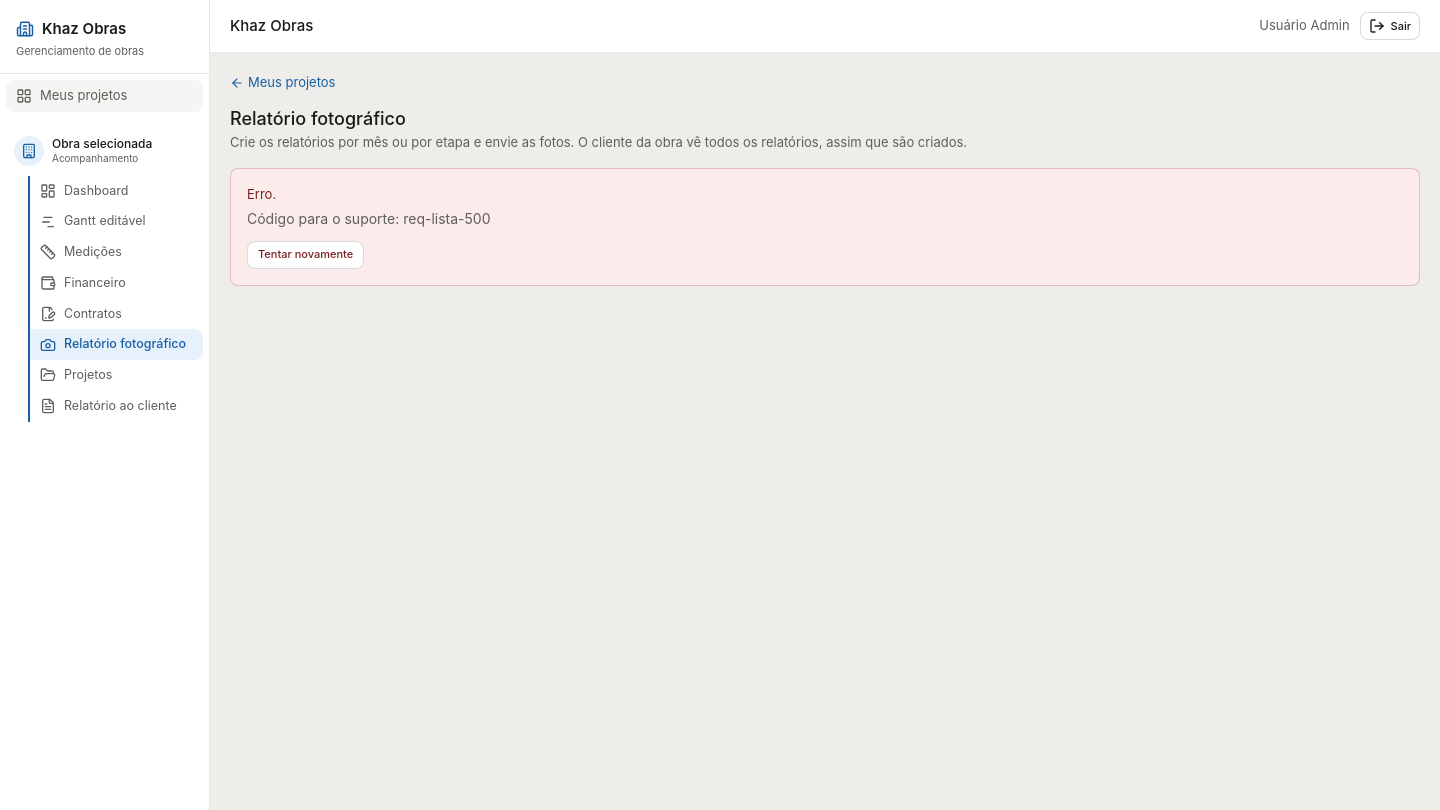
Relatório fotográfico (admin) - lista › erro 500 mostra o código de suporte e "Tentar novamente" recarrega
Expected: the message shows "Código para o suporte: req-lista-500", top-left (230, 168), bottom-right (1420, 286)
Expected: the button "+ Novo relatório" is not shown
Click the button "Tentar novamente" at (306, 254), box top-left (247, 240), bottom-right (364, 268)
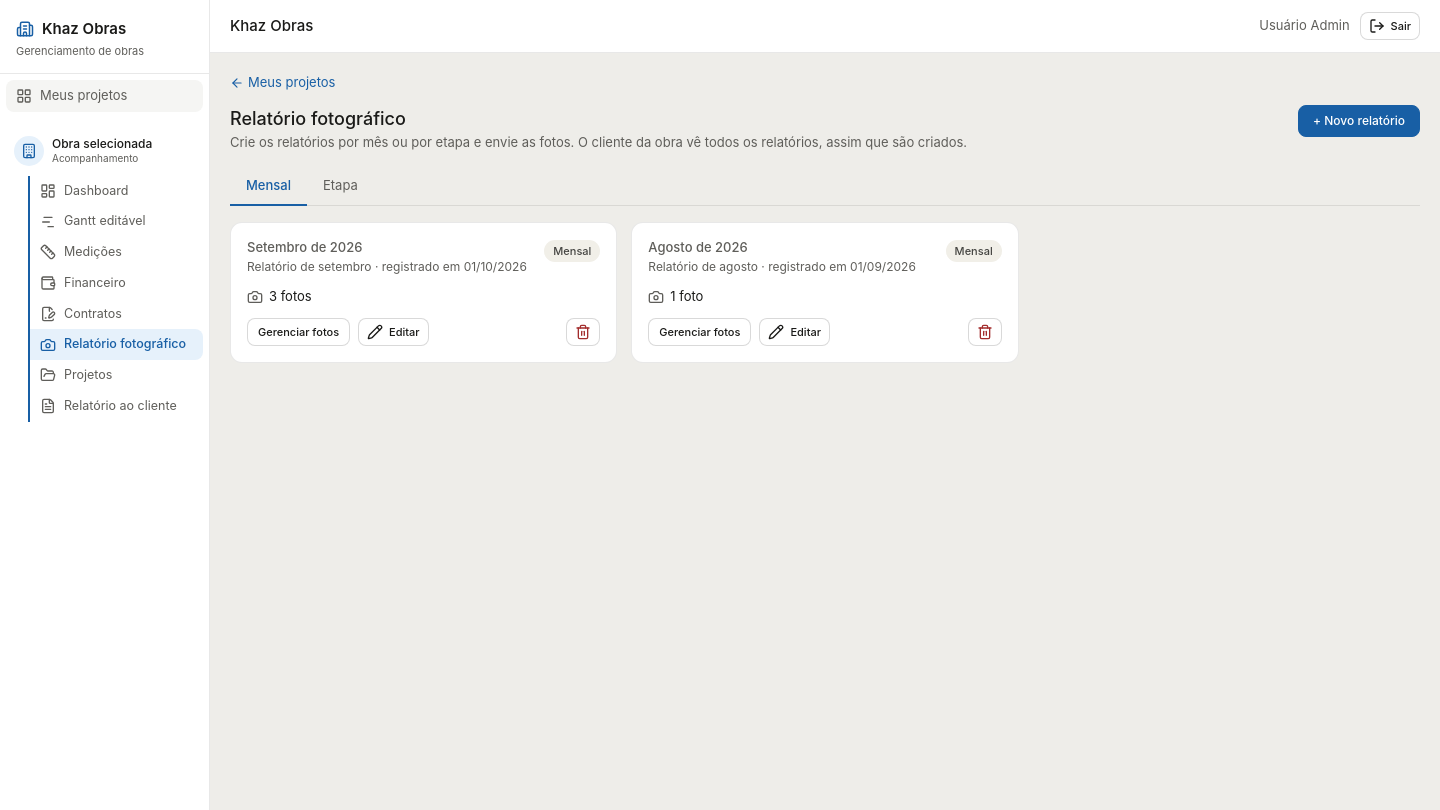
Expected: the heading "Setembro de 2026" is shown, top-left (247, 238), bottom-right (362, 255)
